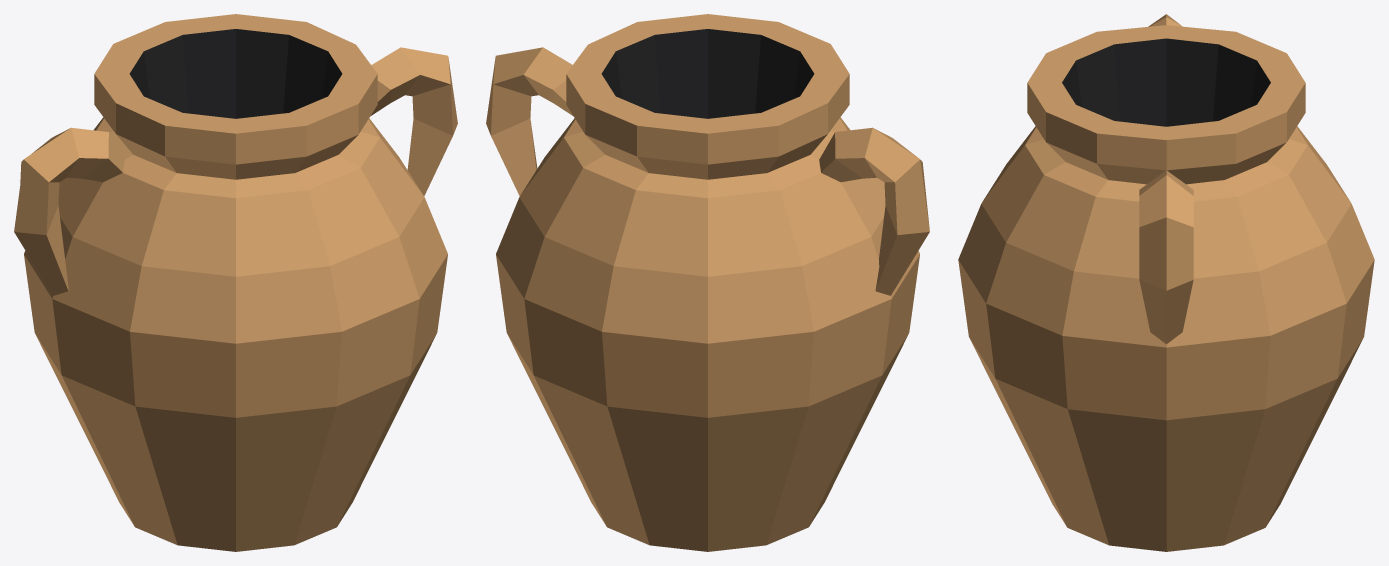
The model's file is pot.fbx.
3 renders of one model, left to right at view 1: azimuth 30°, elevation 25°; view 2: azimuth 150°, elevation 25°; view 3: azimuth 270°, elevation 25°, orthographic.
Visible parts, largest first — view 1: Pot; view 2: Pot; view 3: Pot.
Boxes of the visible parts, x1,y1,x2,y2 form: Pot: [14, 14, 457, 551]; Pot: [486, 14, 929, 551]; Pot: [958, 14, 1374, 551].
Bounding box in the file's own units: 217 × 200 × 179.
